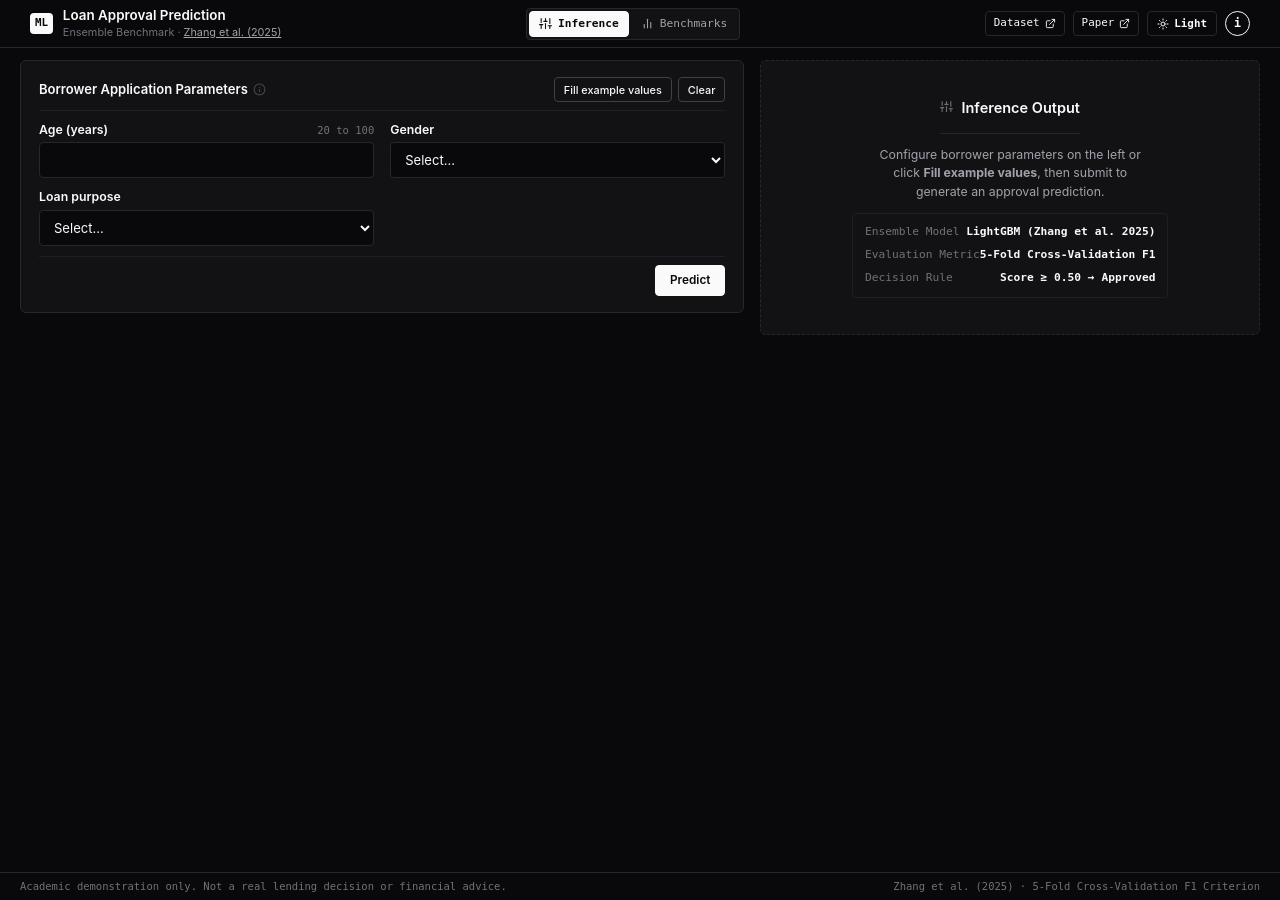
prediction form › sends valid input and shows the predicted outcome with the disclaimer
Type "30" into the number field labelled "Age (years)". click: (207, 160)
box: [39, 142, 374, 178]
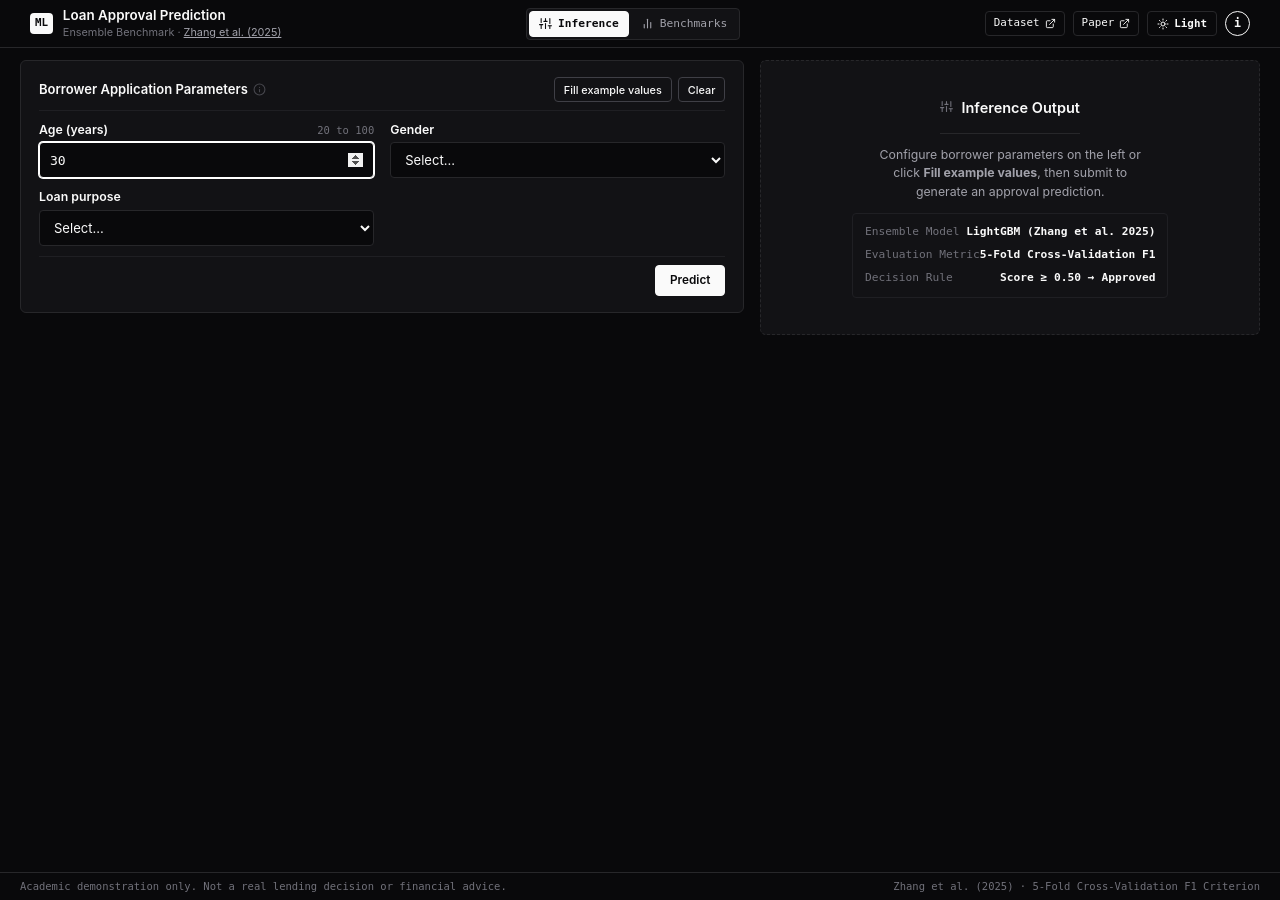
Select "Female" in the dropdown labelled "Gender". click: (558, 160)
box: [390, 142, 725, 178]
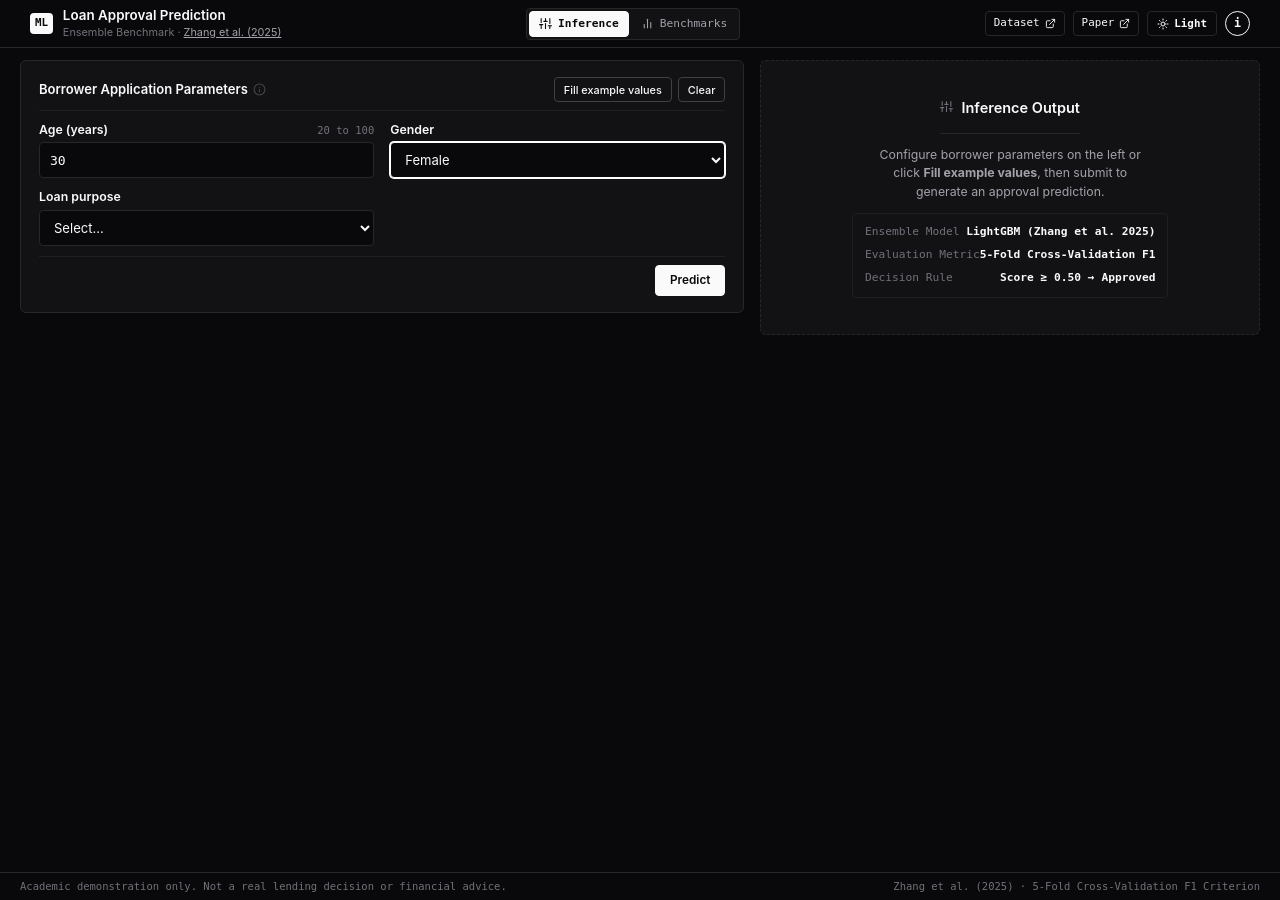
Select "Education" in the dropdown labelled "Loan purpose". click: (207, 228)
box: [39, 210, 374, 246]
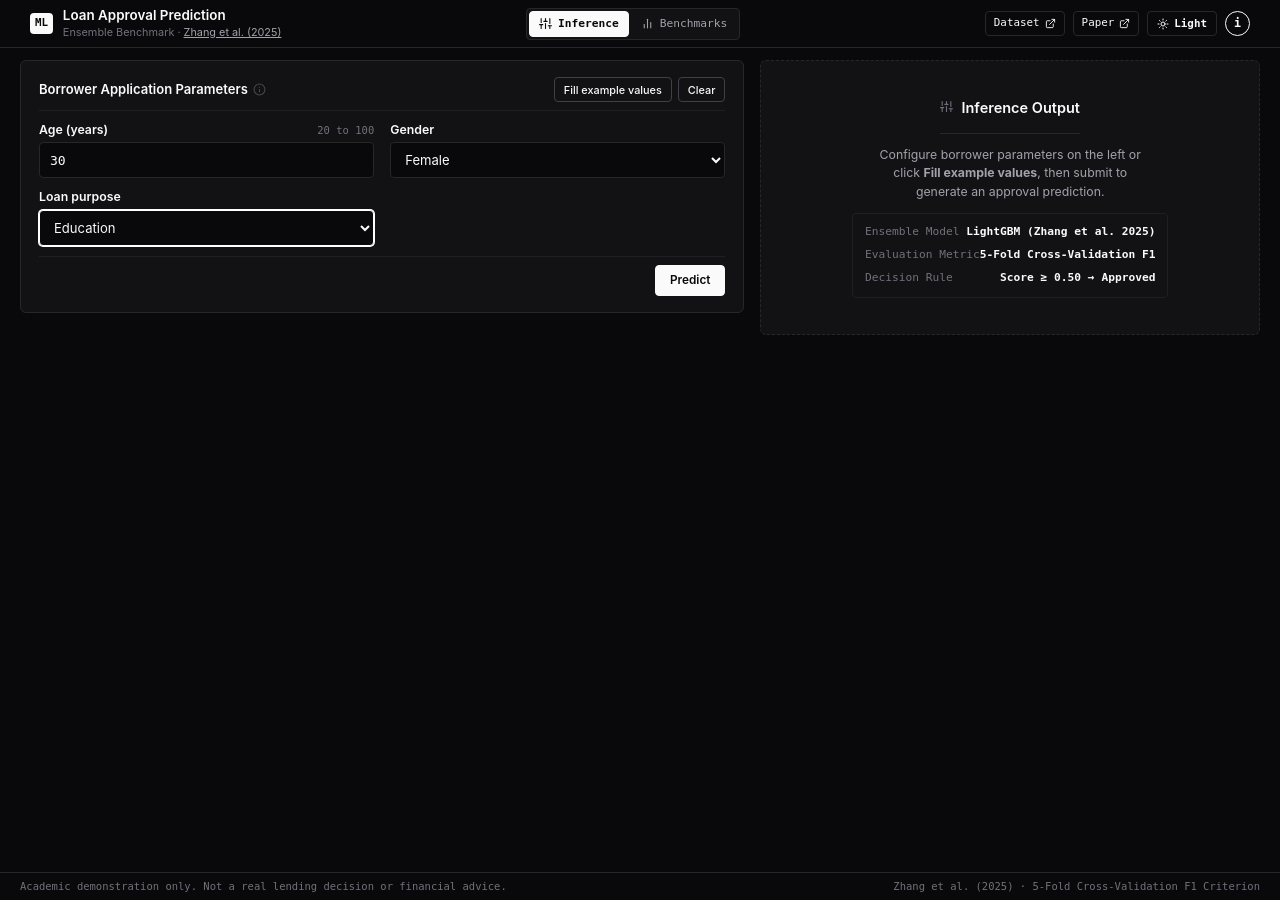
Click the button "Predict". click: (690, 280)
box: [655, 265, 725, 296]
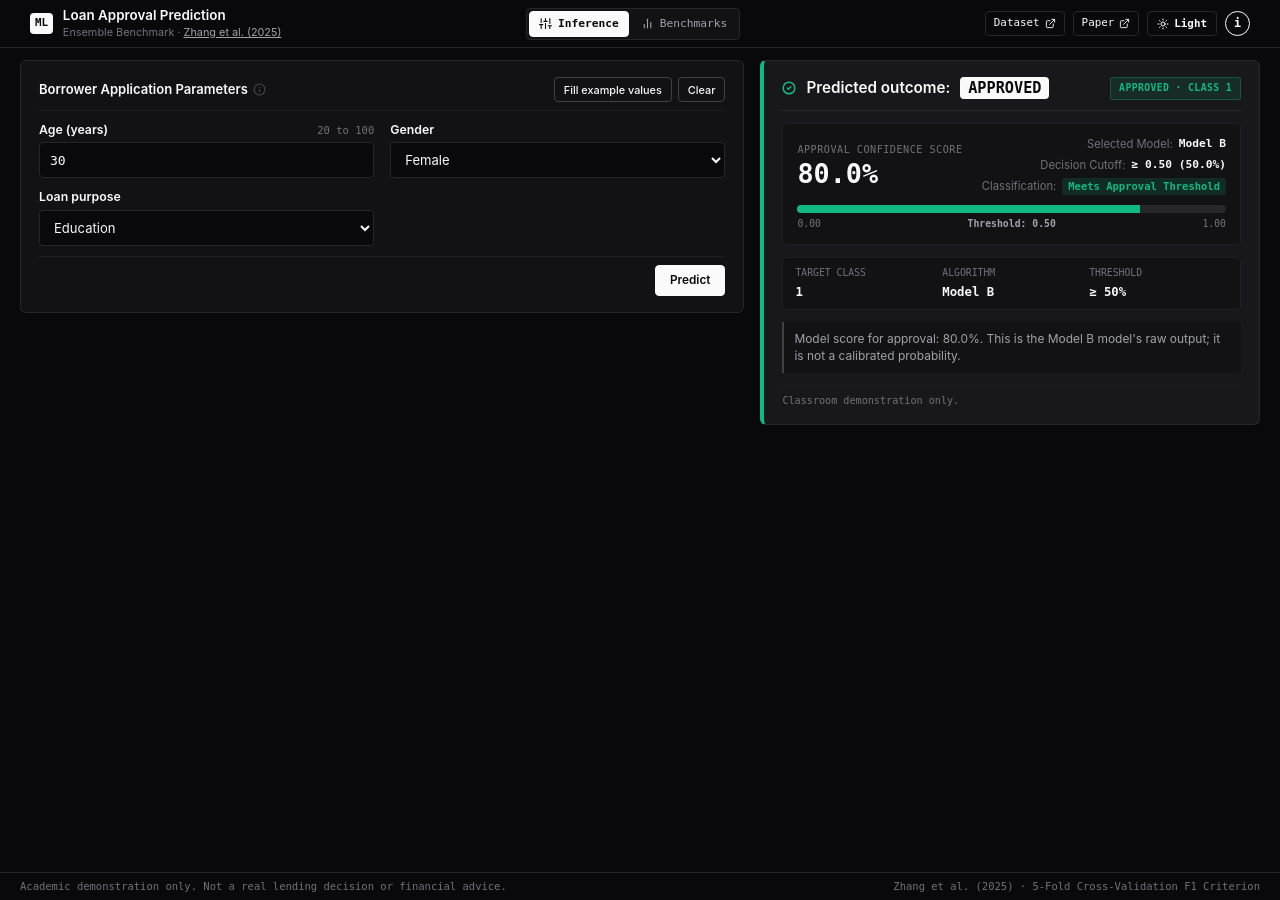
Now the text "approved" is shown, box [960, 77, 1050, 99]
Now the text "Classroom demonstration only." is shown, box [782, 385, 1241, 408]
